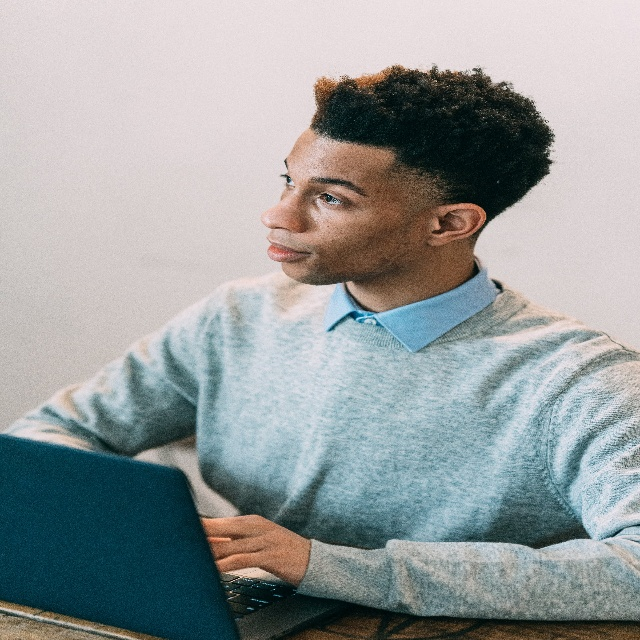Sin_guantes: (197, 511, 307, 588)
